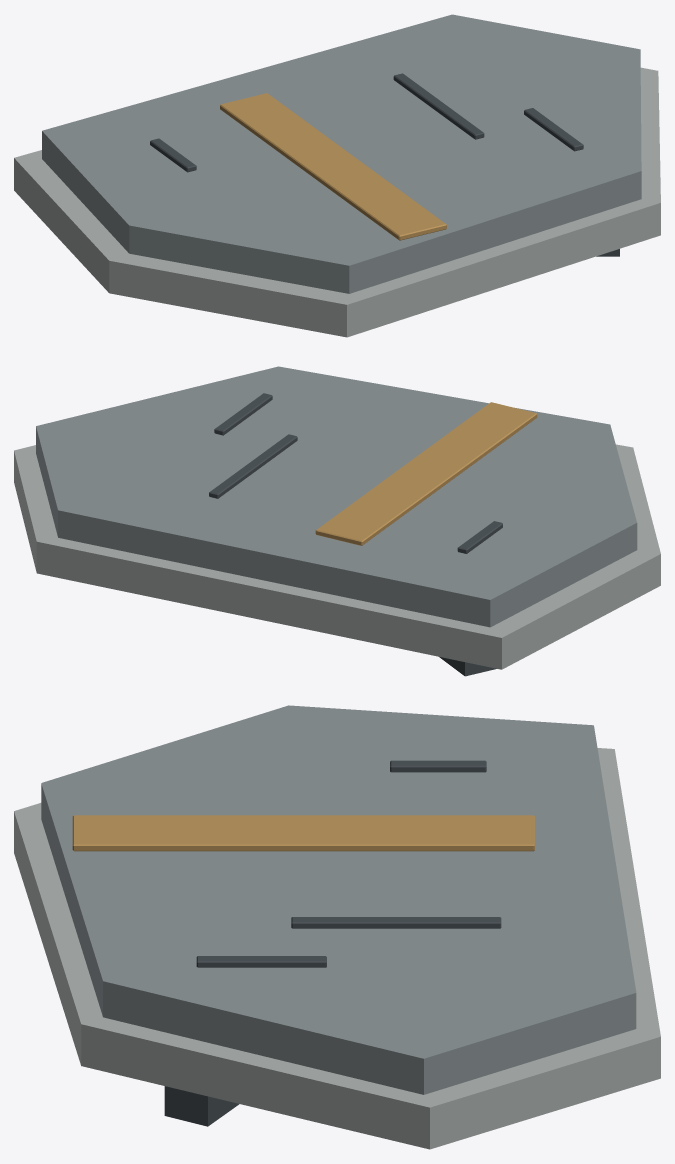
Rendered from hull_panel.glb.
The picture shows the model from 3 angles, top to bottom: view 1: azimuth 30°, elevation 25°; view 2: azimuth 150°, elevation 25°; view 3: azimuth 270°, elevation 25°; orthographic projection. The views are drawn at different scales.
Parts seen in each view (by area): view 1: hull_panel; view 2: hull_panel; view 3: hull_panel.
Part boxes in pixels (box(x1,y1,x2,y2)): hull_panel: box(14, 14, 660, 337); hull_panel: box(14, 366, 660, 676); hull_panel: box(14, 705, 660, 1149).
Bounding box in the file's own units: 2.14 × 0.369 × 1.54.
